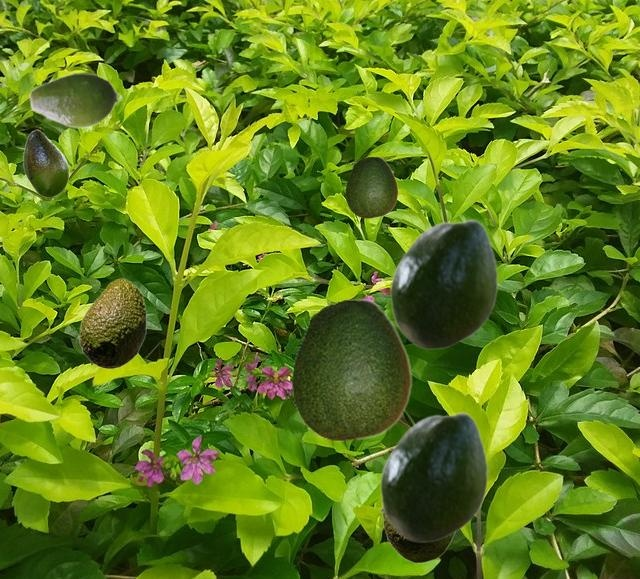avocado: (291, 298, 411, 440), (379, 411, 487, 542), (389, 218, 497, 349), (79, 278, 145, 368), (28, 71, 122, 128), (379, 507, 455, 562), (345, 156, 397, 217), (23, 129, 68, 196)
